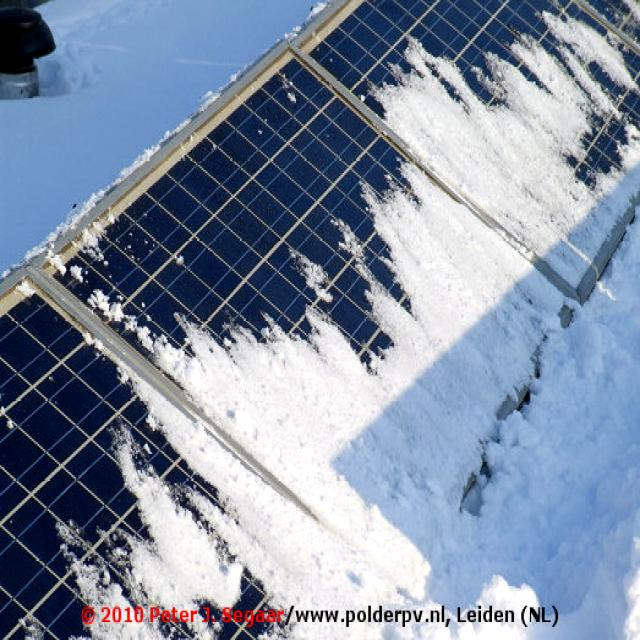panel: (200, 243, 387, 434), (85, 412, 238, 620), (60, 343, 234, 509), (253, 479, 432, 632), (252, 280, 395, 403), (19, 504, 138, 640), (306, 164, 445, 276), (524, 5, 624, 119), (373, 31, 480, 124), (78, 304, 214, 372), (345, 97, 444, 170), (459, 48, 539, 133), (22, 215, 112, 288)
